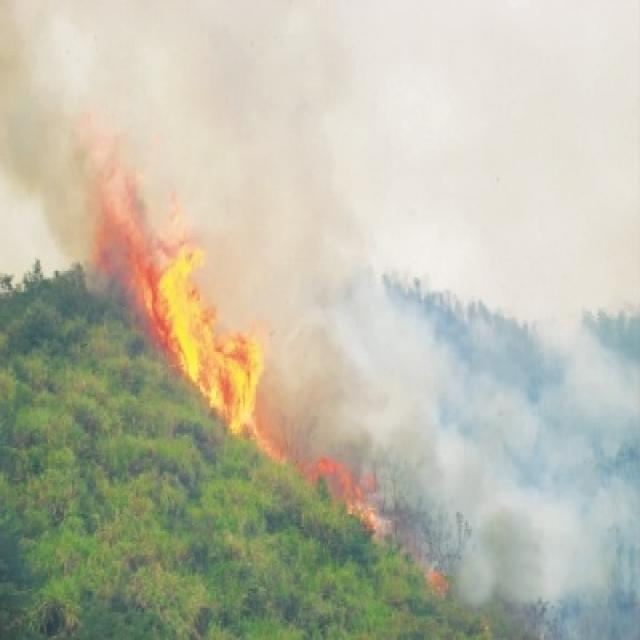Fire: (94, 166, 280, 463), (306, 452, 378, 536)
Smoke: (1, 2, 640, 640)
